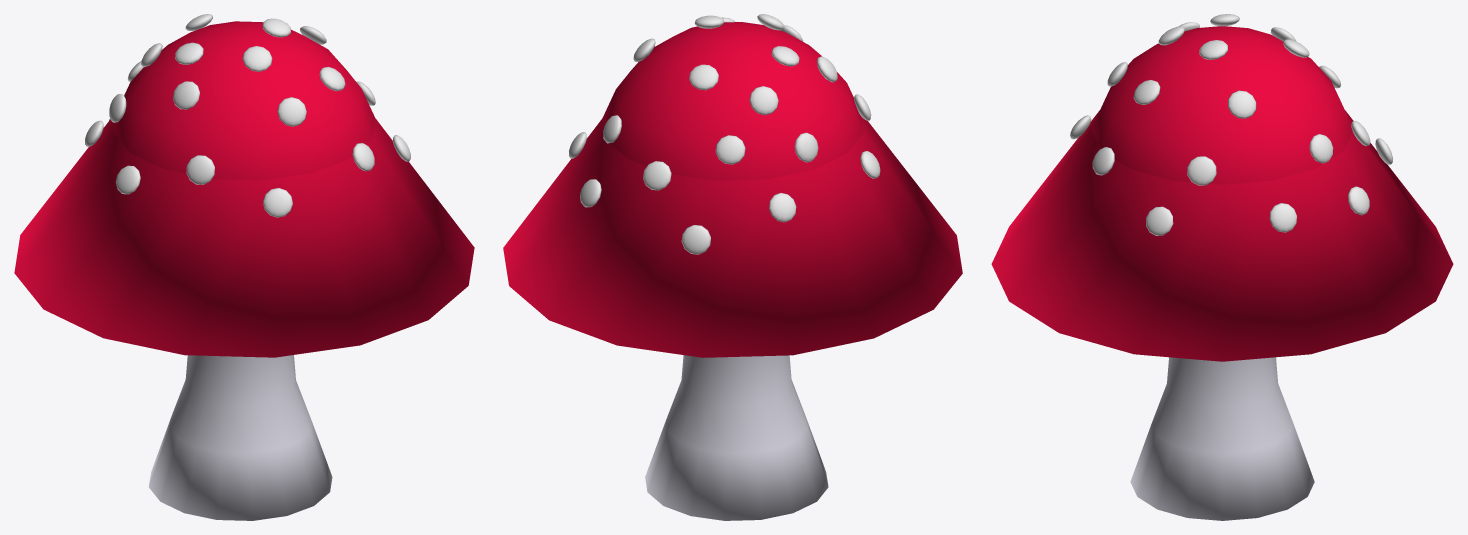
File: jamur-fathir.glb
3 renders of one model, left to right at view 1: azimuth 30°, elevation 25°; view 2: azimuth 150°, elevation 25°; view 3: azimuth 270°, elevation 25°, orthographic.
Visible parts, largest first — view 1: Bola, Silinder, Bola.006, Bola.007, Bola.005, Bola.001, Bola.023, Bola.003; view 2: Bola, Silinder, Bola.020, Bola.019, Bola.004, Bola.018, Bola.021, Bola.008, Bola.009; view 3: Bola, Silinder, Bola.012, Bola.015, Bola.022, Bola.013, Bola.017.
Part boxes in pixels (x1,y1,x2,y2): Bola: (14,21,474,357); Silinder: (149,355,332,520); Bola.006: (263,188,292,217); Bola.007: (186,155,214,184); Bola.005: (277,97,306,126); Bola.001: (173,81,199,109); Bola.023: (242,46,272,71); Bola.003: (115,165,140,194); Bola: (503,22,962,357); Silinder: (645,355,828,520); Bola.020: (715,135,745,164); Bola.019: (681,225,710,254); Bola.004: (749,86,778,115); Bola.018: (643,161,671,190); Bola.021: (769,193,796,222); Bola.008: (689,64,718,90); Bola.009: (794,132,818,162); Bola: (991,26,1453,361); Silinder: (1130,357,1314,520); Bola.012: (1187,156,1216,185); Bola.015: (1269,203,1296,232); Bola.022: (1228,90,1256,118); Bola.013: (1146,206,1173,235); Bola.017: (1309,134,1333,163).
Size of the model in its own units: 0.153 by 0.1658 by 0.153.
